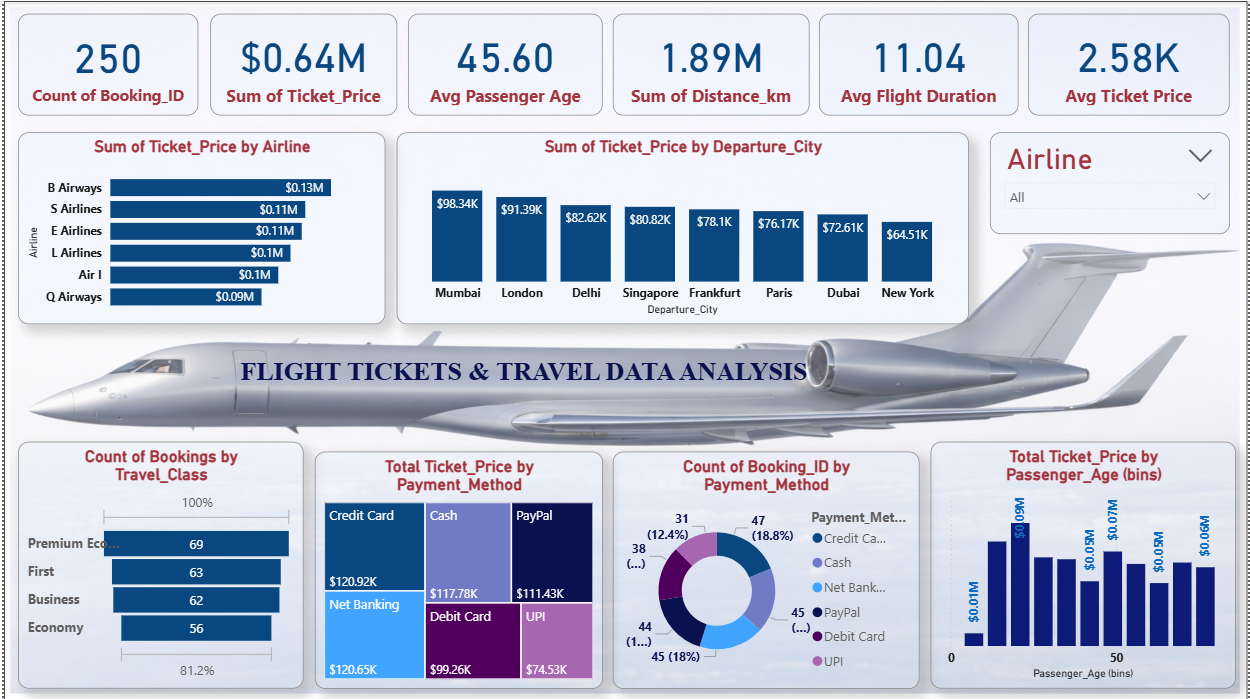

This screenshot's page, from the dashboard's own definition file:
{"tool":"powerbi","page":{"name":"Page 1","canvas":[1280,720],"ordinal":0},"visuals":[{"type":"image","box":[0,0,1279.7,720],"z":0},{"type":"textbox","box":[203.6,360.6,650,52.3],"z":1000},{"type":"card","fields":{"Values":["Count(flight_bookings_sample.Booking_ID)"]},"box":[15.2,13.5,185.5,104.5],"z":2000},{"type":"card","fields":{"Values":["Sum(flight_bookings_sample.Ticket_Price)"]},"box":[212.4,13.5,192.2,104.5],"z":3000},{"type":"card","fields":{"Values":["Avg(flight_bookings_sample.Passenger_Age)"]},"box":[416.5,13.5,200.6,104.5],"z":4000},{"type":"card","fields":{"Values":["Sum(flight_bookings_sample.Distance_km)"]},"box":[627.2,13.5,202.3,104.5],"z":5000},{"type":"card","fields":{"Values":["Avg(flight_bookings_sample.Flight_Duration_hr)"]},"box":[839,13.1,205,104.7],"z":6000},{"type":"card","fields":{"Values":["flight_bookings_sample.Average Ticket Price"]},"box":[1053.8,13.5,207.4,104.5],"z":7000},{"type":"clusteredBarChart","fields":{"Category":["flight_bookings_sample.Airline"],"Y":["Sum(flight_bookings_sample.Ticket_Price)"]},"box":[14.5,135.2,378.1,197.8],"z":8000},{"type":"columnChart","fields":{"Y":["Sum(flight_bookings_sample.Ticket_Price)"],"Category":["flight_bookings_sample.Departure_City"]},"box":[404.2,135.2,588.9,197.8],"z":9000},{"type":"funnel","fields":{"Category":["flight_bookings_sample.Travel_Class"],"Y":["CountNonNull(flight_bookings_sample.Booking_ID)"]},"box":[14.5,453.7,293.7,254.5],"z":10000},{"type":"donutChart","fields":{"Category":["flight_bookings_sample.Payment_Method"],"Y":["CountNonNull(flight_bookings_sample.Booking_ID)"]},"box":[626.7,463.9,315.5,244.3],"z":11000},{"type":"treemap","fields":{"Group":["flight_bookings_sample.Payment_Method"],"Values":["Sum(flight_bookings_sample.Ticket_Price)"]},"box":[319.9,463.9,296.6,244.3],"z":12000},{"type":"columnChart","fields":{"Y":["Sum(flight_bookings_sample.Ticket_Price)"],"Category":["flight_bookings_sample.Passenger_Age (bins)"]},"box":[953.9,453.7,314.1,254.5],"z":13000},{"type":"slicer","fields":{"Values":["flight_bookings_sample.Airline"]},"box":[1015,135.2,247.2,104.7],"z":14000}]}

Visuals, with their boxes in screenshot pixels (x1, y1, x2, y2), scaled from the page's 1280x720 canvas onto the 1250x699 screenshot:
image: 0, 0, 1249, 698
textbox: 199, 350, 834, 401
card - Count(flight_bookings_sample.Booking_ID): 15, 13, 196, 115
card - Sum(flight_bookings_sample.Ticket_Price): 207, 13, 395, 115
card - Avg(flight_bookings_sample.Passenger_Age): 407, 13, 603, 115
card - Sum(flight_bookings_sample.Distance_km): 612, 13, 810, 115
card - Avg(flight_bookings_sample.Flight_Duration_hr): 819, 13, 1020, 114
card - flight_bookings_sample.Average Ticket Price: 1029, 13, 1232, 115
clusteredBarChart - flight_bookings_sample.Airline x Sum(flight_bookings_sample.Ticket_Price): 14, 131, 383, 323
columnChart - Sum(flight_bookings_sample.Ticket_Price) x flight_bookings_sample.Departure_City: 395, 131, 970, 323
funnel - flight_bookings_sample.Travel_Class x CountNonNull(flight_bookings_sample.Booking_ID): 14, 440, 301, 688
donutChart - flight_bookings_sample.Payment_Method x CountNonNull(flight_bookings_sample.Booking_ID): 612, 450, 920, 688
treemap - flight_bookings_sample.Payment_Method x Sum(flight_bookings_sample.Ticket_Price): 312, 450, 602, 688
columnChart - Sum(flight_bookings_sample.Ticket_Price) x flight_bookings_sample.Passenger_Age (bins): 932, 440, 1238, 688
slicer - flight_bookings_sample.Airline: 991, 131, 1233, 233
